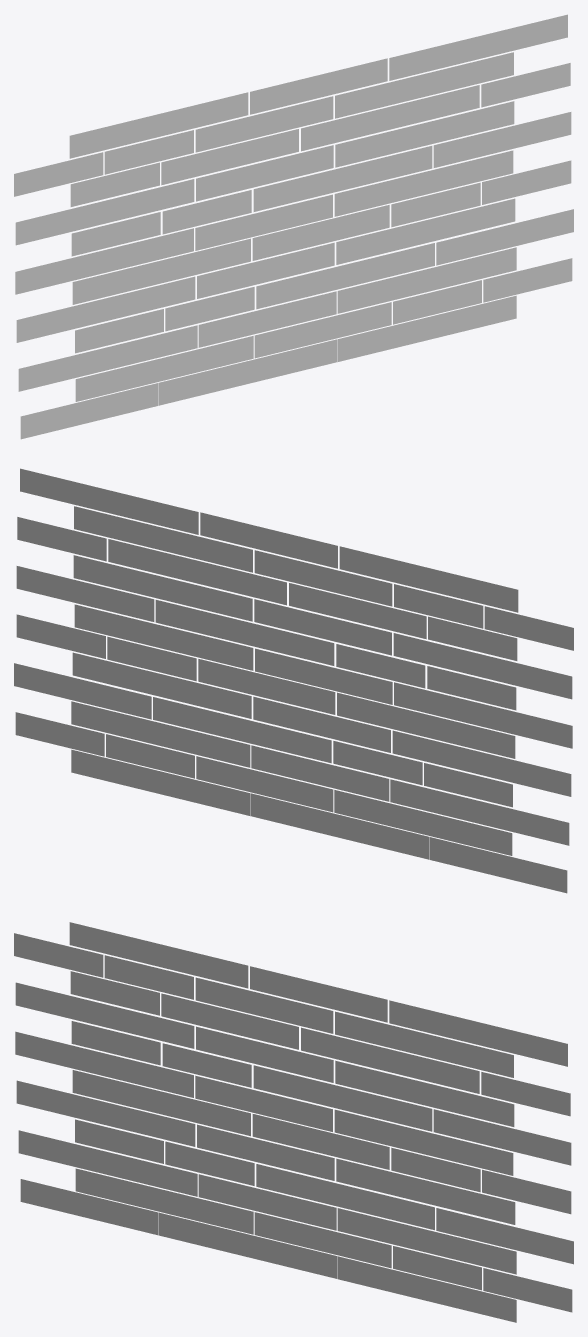
The model's file is rockfacelarge.gltf.
3 renders of one model, top to bottom at view 1: azimuth 30°, elevation 25°; view 2: azimuth 150°, elevation 25°; view 3: azimuth 330°, elevation 25°, orthographic.
Visible parts, largest first — view 1: largerock; view 2: largerock; view 3: largerock.
Part boxes in pixels (box(x1,y1,x2,y2)): largerock: box(14, 14, 573, 439); largerock: box(14, 468, 573, 893); largerock: box(14, 922, 573, 1322).
Size of the model in its own units: 581 by 289 by 2.26e-14.
Materials: 42 (42 with a texture image).
